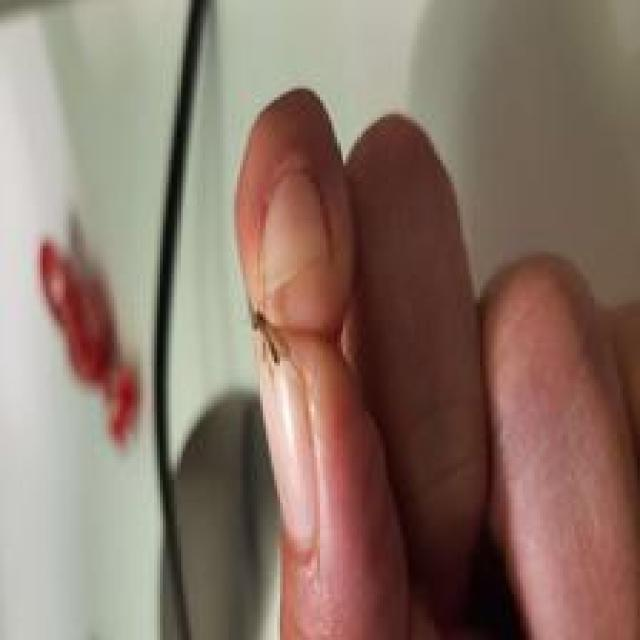Culex: (36, 208, 141, 452)
